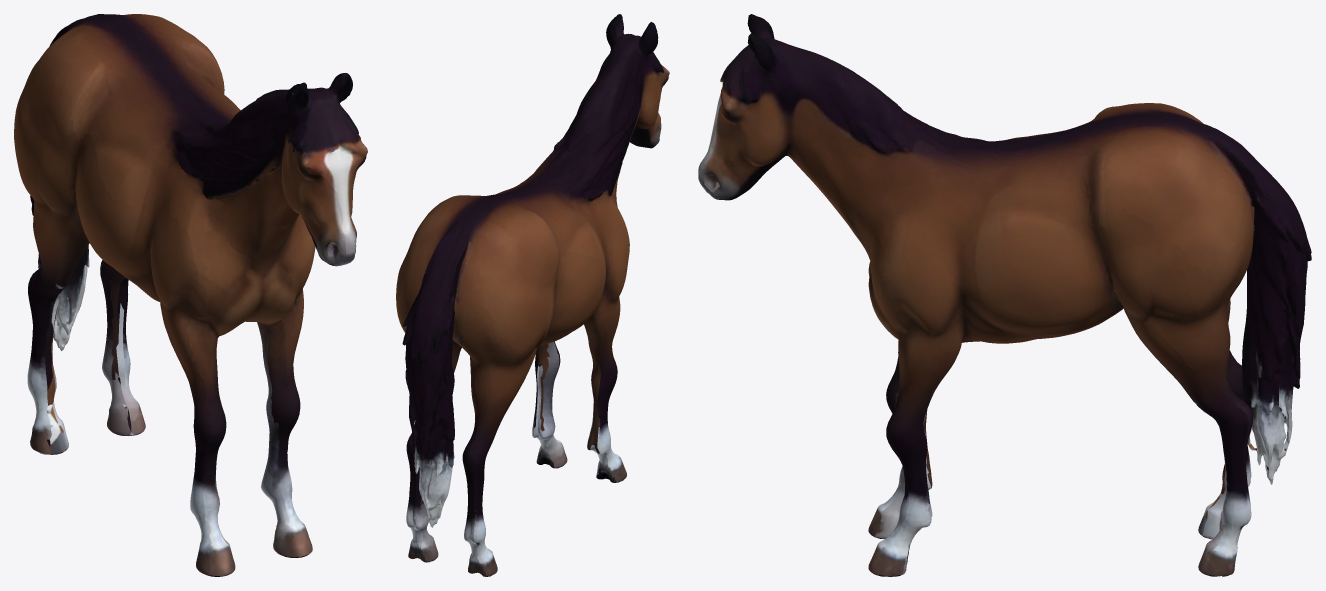
The model's file is horse.glb.
3 renders of one model, left to right at view 1: azimuth 30°, elevation 25°; view 2: azimuth 150°, elevation 25°; view 3: azimuth 270°, elevation 25°, orthographic. The views are drawn at different scales.
Visible parts, largest first — view 1: tmpwc_kdvdi.ply; view 2: tmpwc_kdvdi.ply; view 3: tmpwc_kdvdi.ply.
Part boxes in pixels (<box>): tmpwc_kdvdi.ply: <box>14,14,367,576</box>; tmpwc_kdvdi.ply: <box>396,14,669,576</box>; tmpwc_kdvdi.ply: <box>698,14,1311,576</box>.
Bounding box in the file's own units: 0.5522 × 1.6 × 1.68.
1 material, 1 textured.
